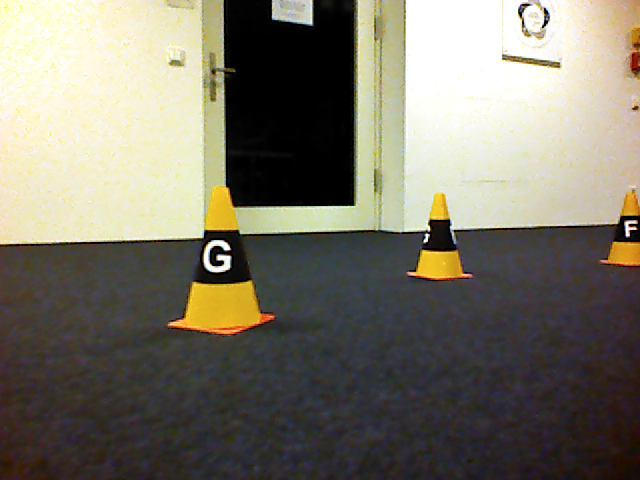yellowcone: (164, 185, 278, 339), (405, 190, 475, 284), (600, 192, 640, 269)
